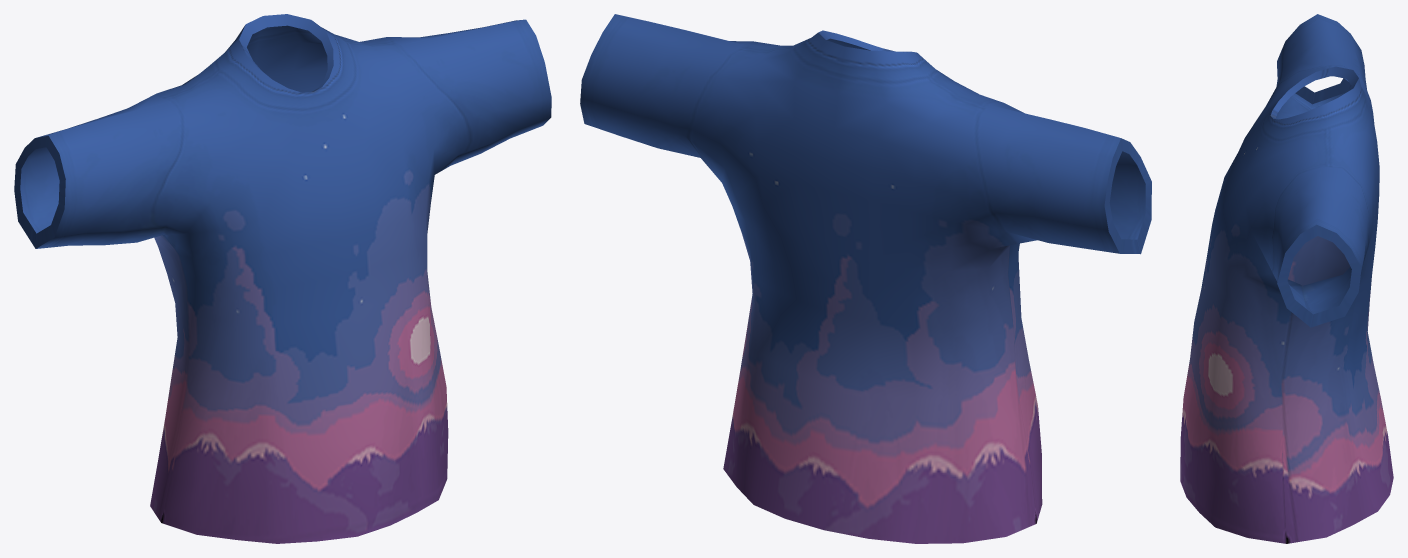
The model's file is TShirt_54.glb.
3 views of the same model, side by side, from view 1: azimuth 30°, elevation 25°; view 2: azimuth 150°, elevation 25°; view 3: azimuth 270°, elevation 25° (orthographic). The views are drawn at different scales.
Parts seen in each view (by area): view 1: TShirt_LP.001; view 2: TShirt_LP.001; view 3: TShirt_LP.001.
Part boxes in pixels (x1,y1,x2,y2): TShirt_LP.001: (14, 14, 551, 543); TShirt_LP.001: (580, 14, 1151, 543); TShirt_LP.001: (1180, 14, 1393, 543).
Bounding box in the file's own units: 0.6266 × 0.5314 × 0.2526.
Materials: 1 (1 with a texture image).
